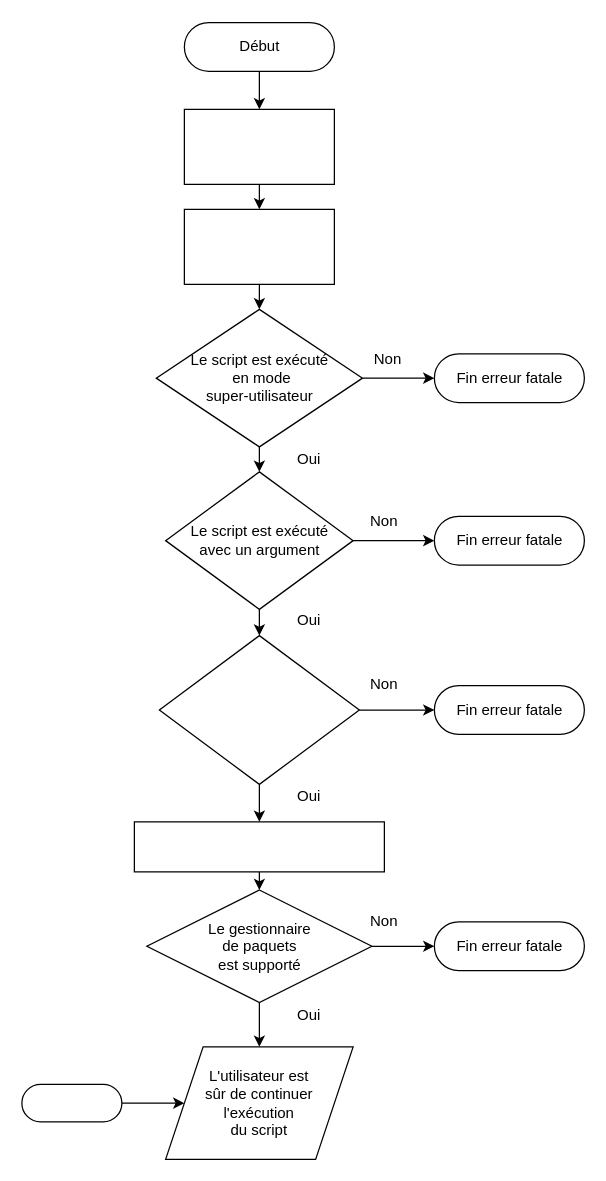
Some shapes in this 606 by 1181 pixel diagram are drawn without their labels. The shapes that lost their labels are listed below. From the top down, each one's centre as x and y in pixels, then its label:
At (258,146): "Création du fichier de logs dans le dossier actuel".
At (258,246): "Récupération des informations sur le système d'exploitation".
At (258,709): "L'argument correspond au nom de l'utilisateur".
At (258,846): "Détection du gestionnaire de paquets".
At (71,1102): "Saisie clavier".
